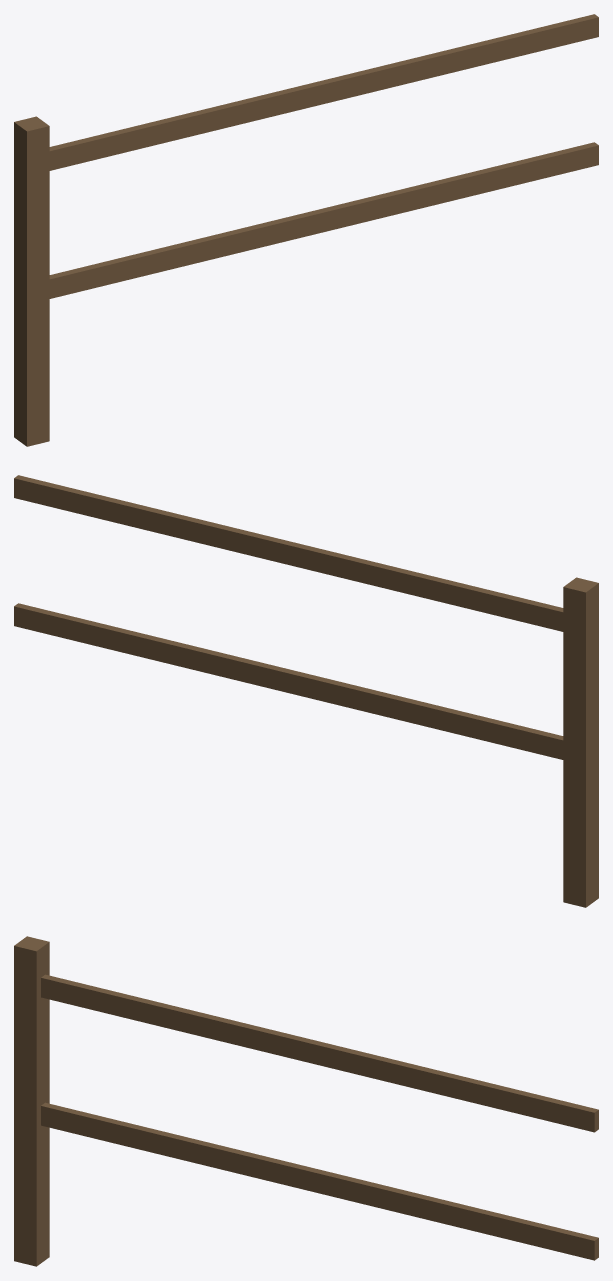
The model's file is fence_segment.glb.
The picture shows the model from 3 angles, top to bottom: view 1: azimuth 30°, elevation 25°; view 2: azimuth 150°, elevation 25°; view 3: azimuth 330°, elevation 25°; orthographic projection.
Parts seen in each view (by area): view 1: Fence; view 2: Fence; view 3: Fence.
Boxes of the visible parts, bbox=[...] form: Fence: bbox=[14, 14, 598, 446]; Fence: bbox=[14, 475, 598, 907]; Fence: bbox=[14, 936, 598, 1266].
Bounding box in the file's own units: 3.06 × 1.6 × 0.12.
